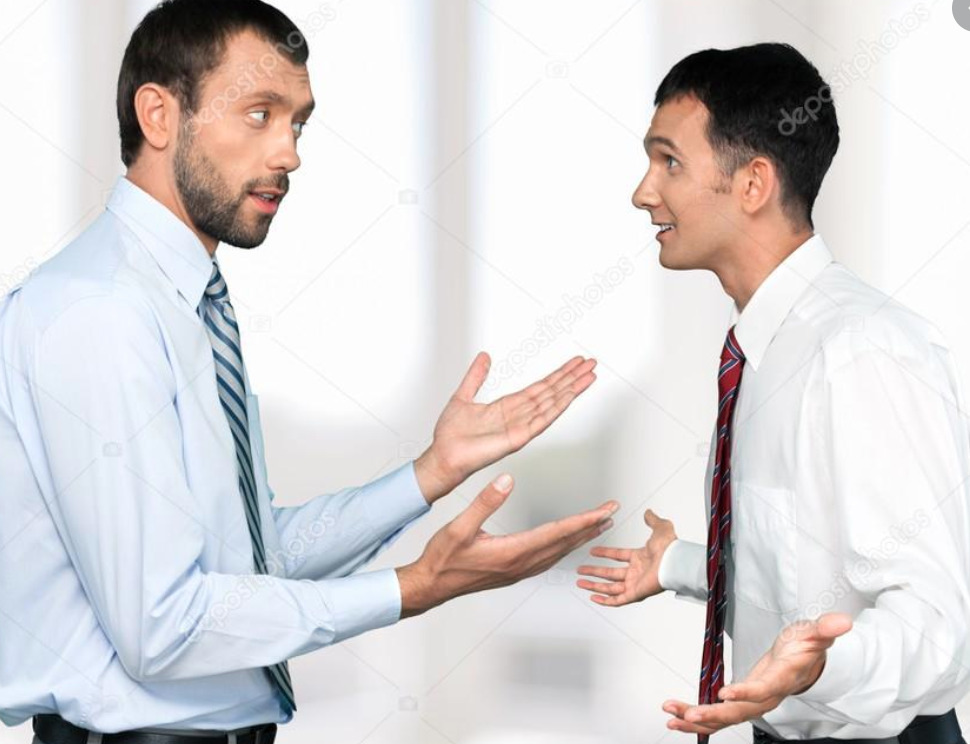Bad: (2, 1, 970, 744)
